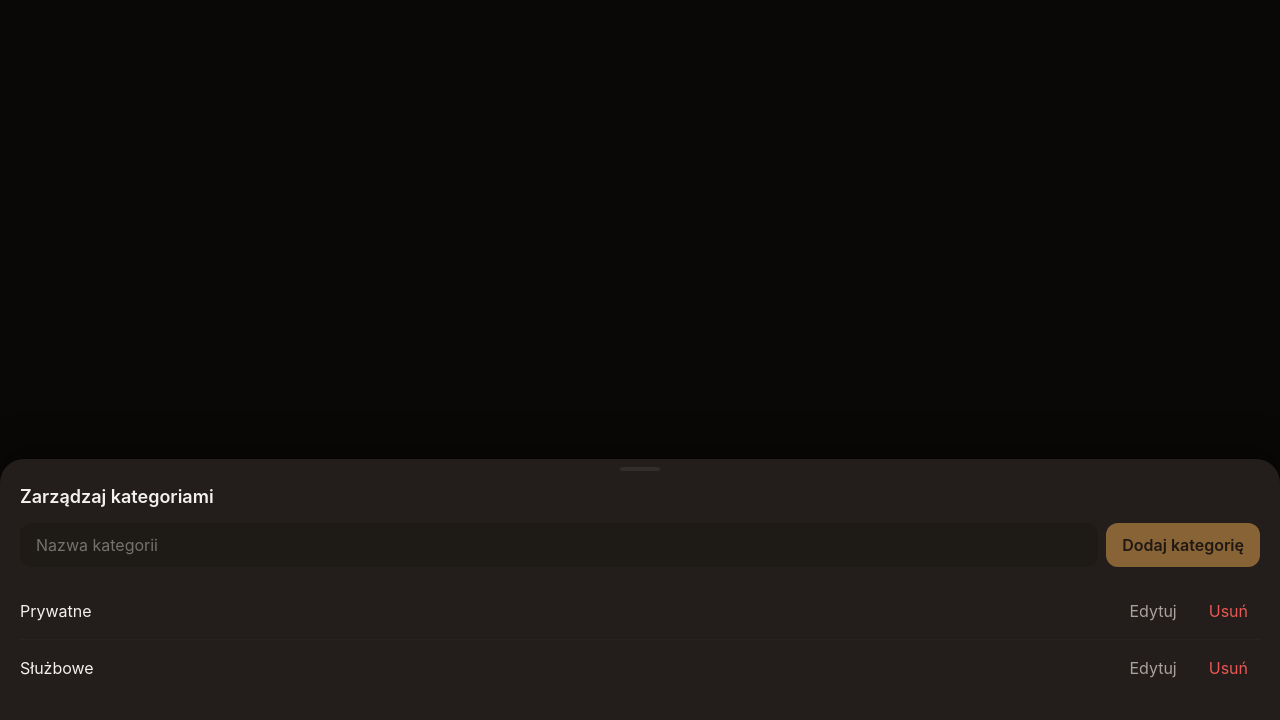
Test: ManageCategoriesSheet › first delete click flips label to confirm and does not delete yet
Click the button "Usuń" in the row of "Prywatne" at (1228, 611), box [1197,591,1260,631]
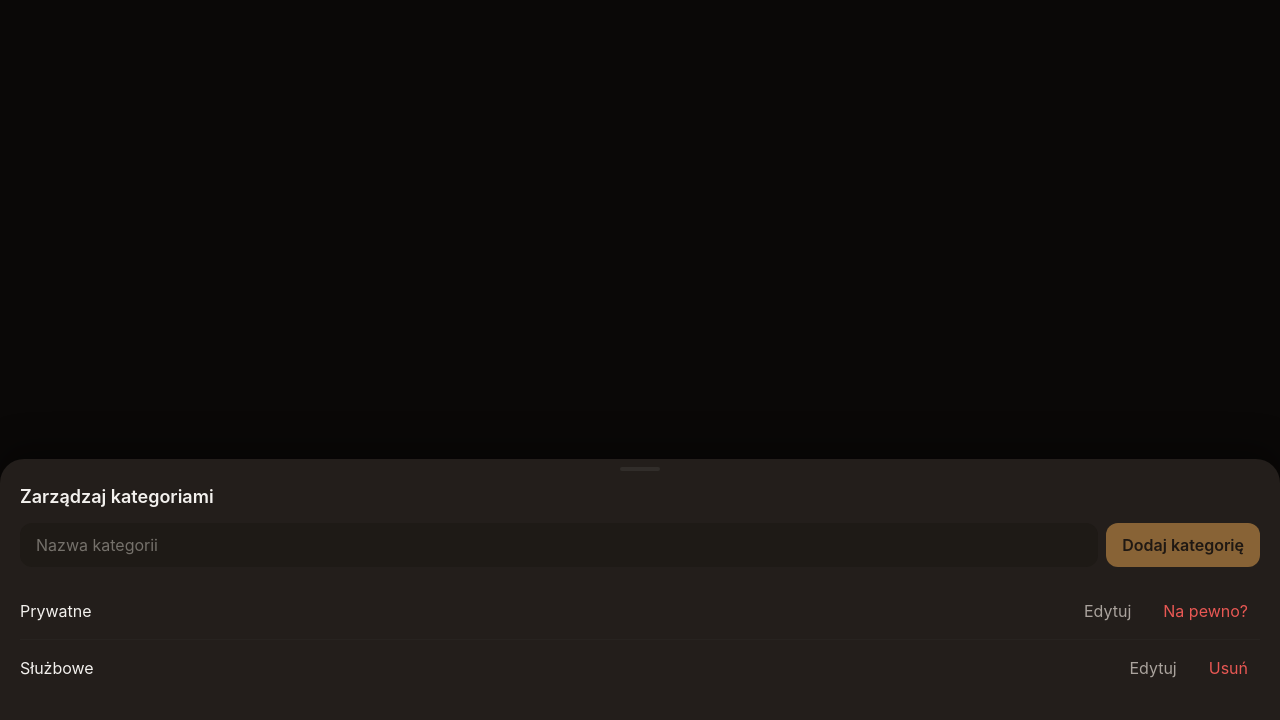
Result: the button "Na pewno?" is shown at [1151,591,1260,631]
